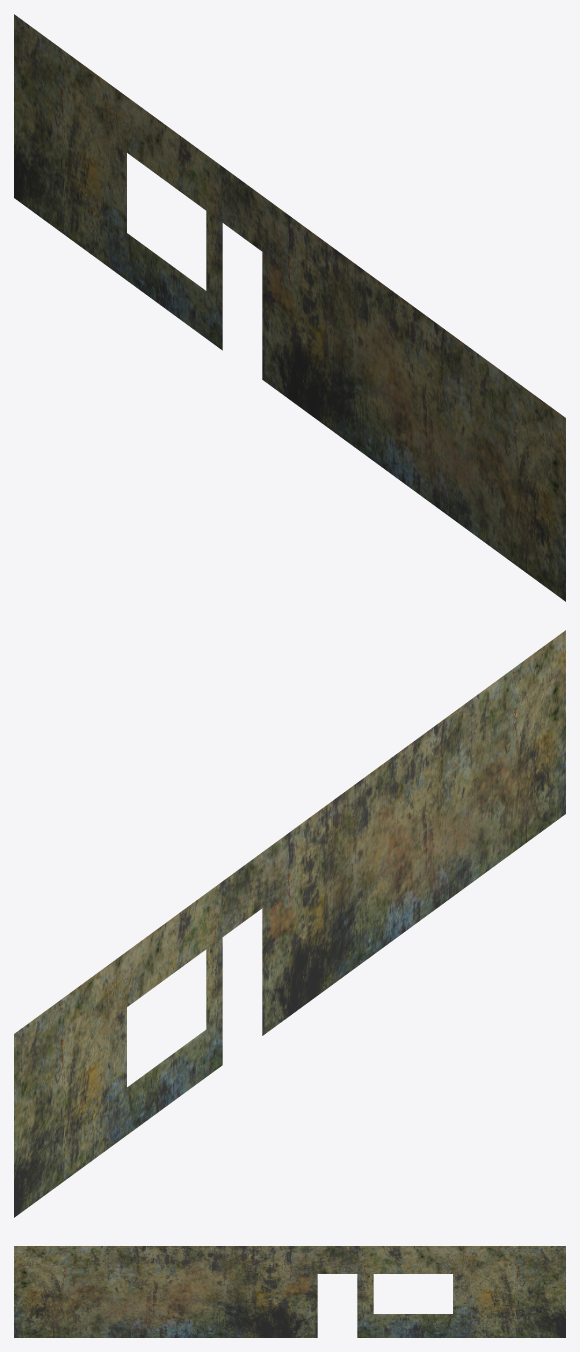
The model's file is Wall_01.FBX.
The picture shows the model from 3 angles, top to bottom: view 1: azimuth 30°, elevation 25°; view 2: azimuth 150°, elevation 25°; view 3: azimuth 270°, elevation 25°; orthographic projection. The views are drawn at different scales.
Parts seen in each view (by area): view 1: Wall_01; view 2: Wall_01; view 3: Wall_01.
Part boxes in pixels (x1,y1,x2,y2): Wall_01: [14, 14, 565, 601]; Wall_01: [14, 630, 565, 1217]; Wall_01: [14, 1246, 565, 1337].
Bounding box in the file's own units: 0.0114 × 320 × 1741.
